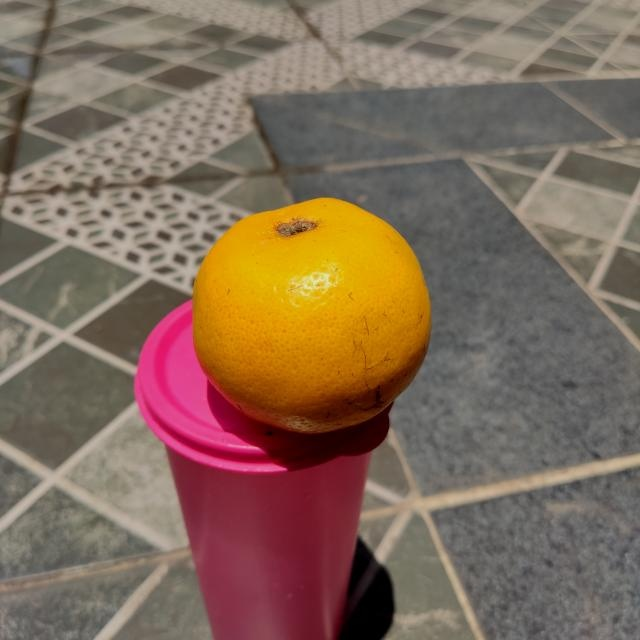agrume: (192, 191, 437, 435)
